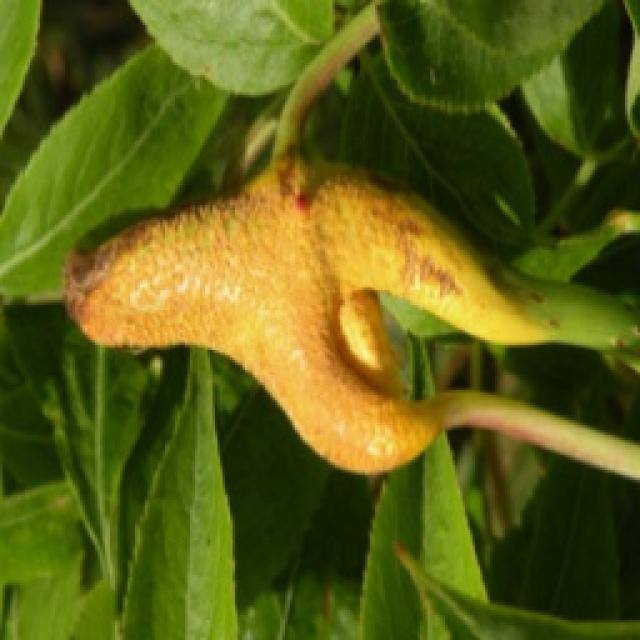Elderberry_rust: (60, 150, 558, 478)
